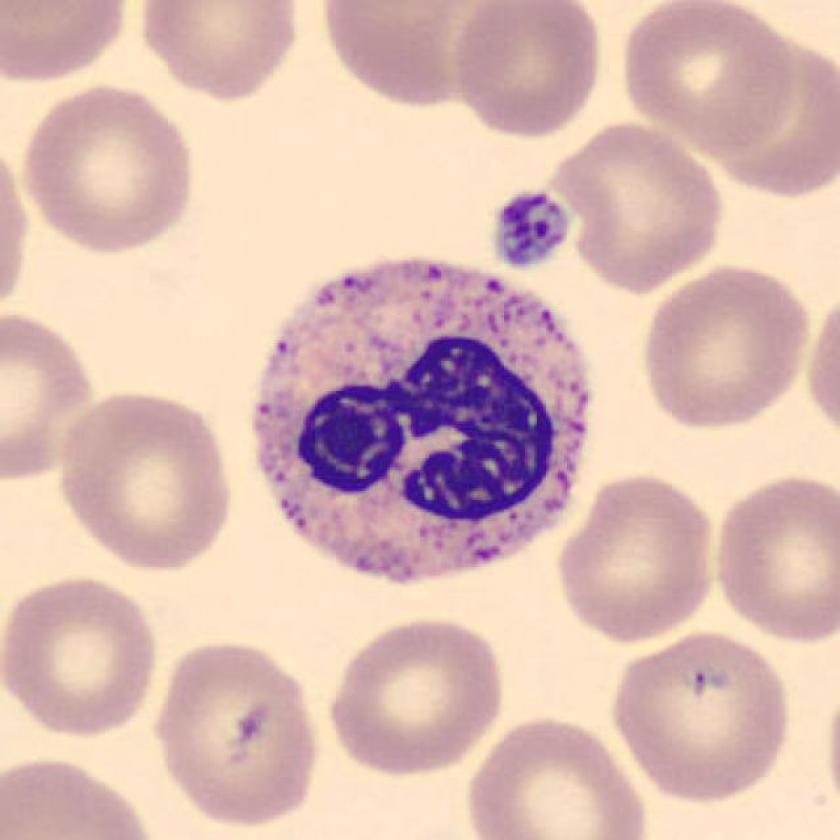neutrophil: (253, 261, 590, 581)
